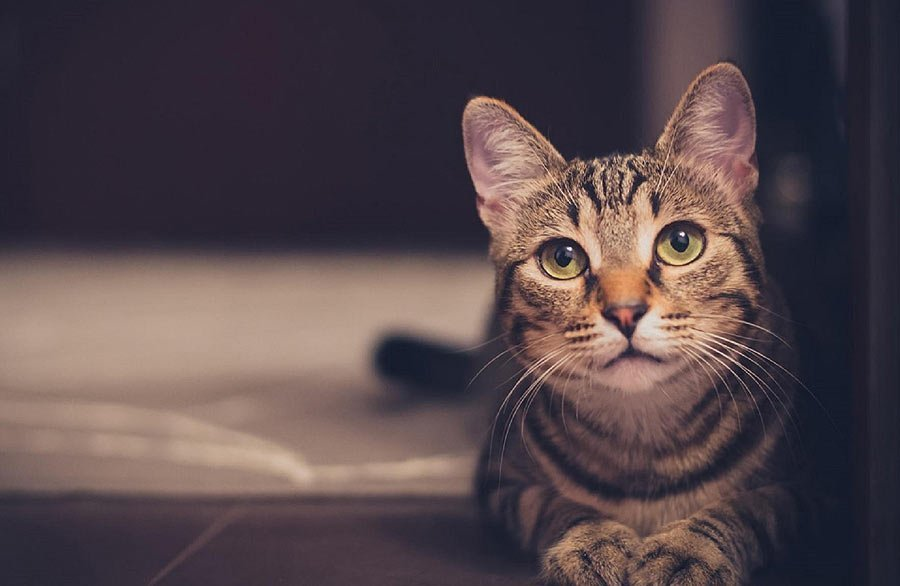cat: (459, 58, 816, 579)
